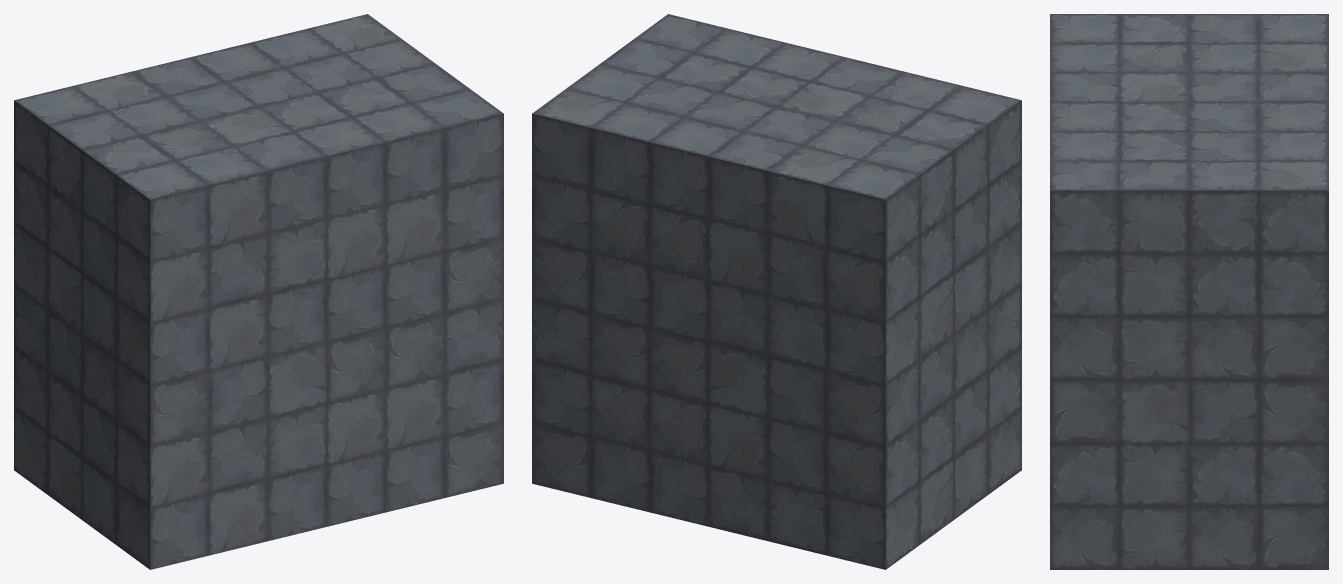
The model's file is Castle Block 6x4x6.fbx.
3 views of the same model, side by side, from view 1: azimuth 30°, elevation 25°; view 2: azimuth 150°, elevation 25°; view 3: azimuth 270°, elevation 25° (orthographic). The views are drawn at different scales.
Visible parts, largest first — view 1: Castle Block 6x4x6; view 2: Castle Block 6x4x6; view 3: Castle Block 6x4x6.
Boxes of the visible parts, <box> form: Castle Block 6x4x6: <box>14,14,503,569</box>; Castle Block 6x4x6: <box>532,14,1021,569</box>; Castle Block 6x4x6: <box>1050,14,1328,569</box>.
Size of the model in its own units: 4.5 by 4.5 by 3.
